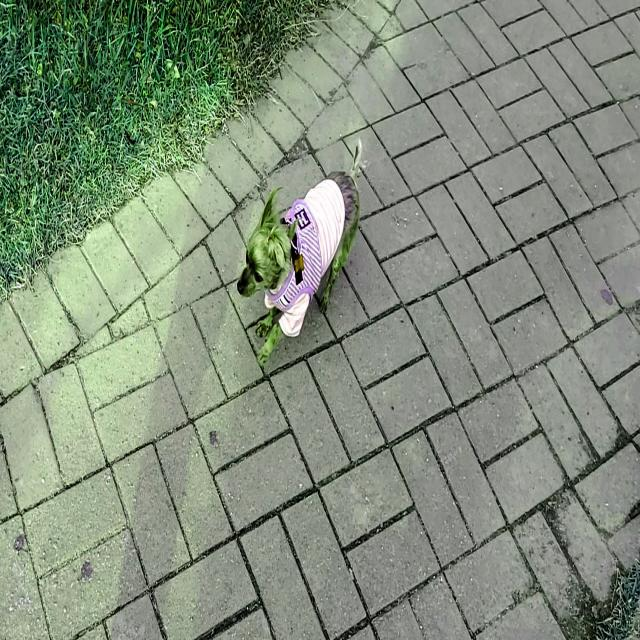Dog: (237, 138, 362, 367)
